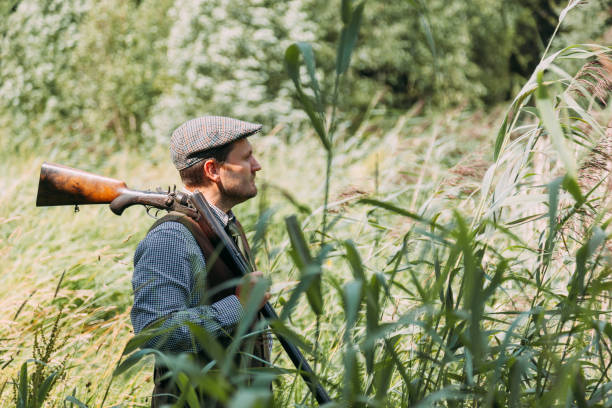shotgun: (39, 153, 330, 408)
